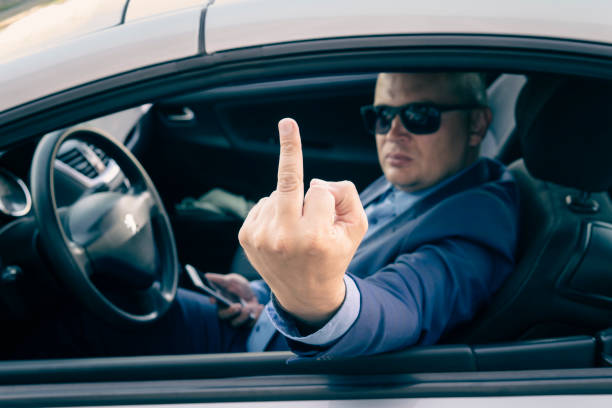insulting_gesture: (238, 117, 367, 313)
